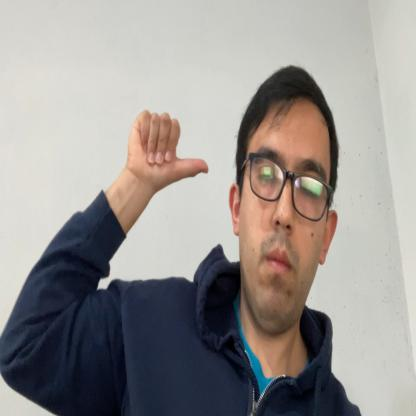A: (128, 108, 209, 192)
